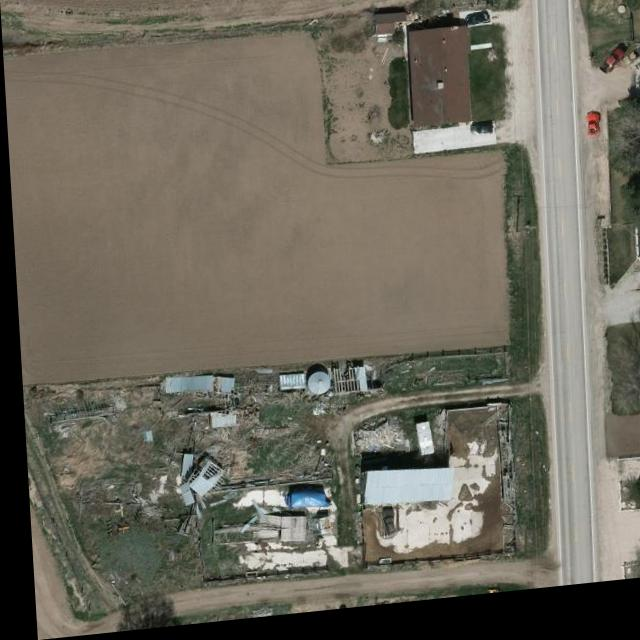vehicle: (596, 58, 628, 91), (621, 55, 640, 85), (581, 123, 600, 150), (374, 517, 390, 547), (464, 20, 491, 37), (468, 130, 495, 146)
